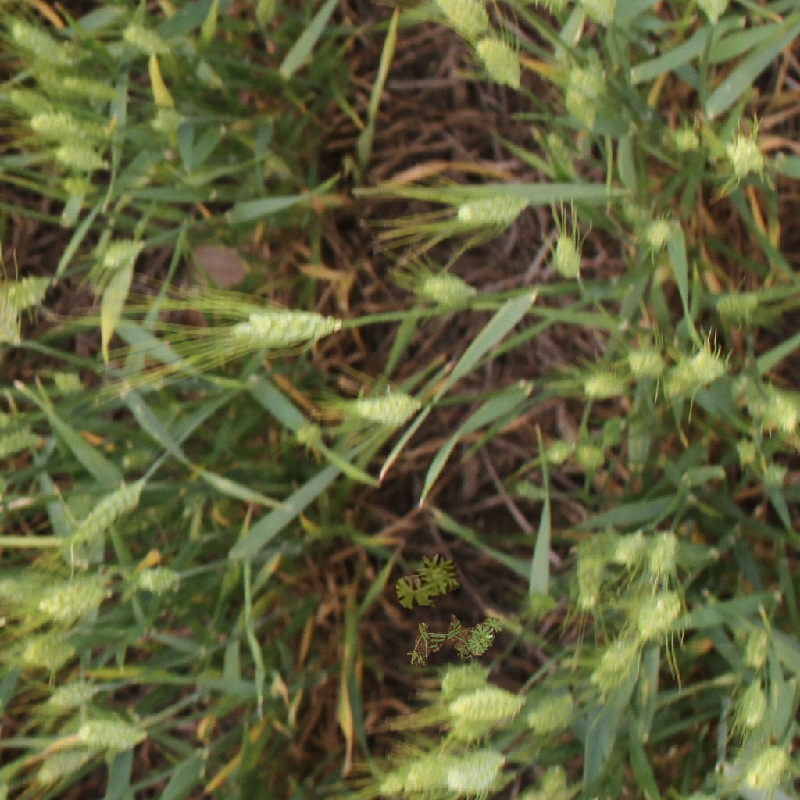spikelet: (224, 305, 340, 352), (71, 479, 144, 544), (376, 749, 463, 799), (442, 683, 527, 732), (35, 570, 112, 623), (3, 15, 77, 70), (1, 628, 77, 674), (453, 188, 528, 233), (74, 708, 147, 754), (445, 745, 508, 798), (351, 387, 422, 429), (473, 33, 523, 92), (33, 676, 100, 720), (25, 108, 102, 146), (32, 743, 98, 787), (414, 268, 477, 312), (634, 588, 684, 643), (589, 637, 638, 693), (523, 690, 578, 737), (677, 345, 729, 394), (744, 742, 791, 795), (433, 659, 493, 700), (428, 1, 490, 40), (758, 388, 800, 442), (1, 273, 51, 315), (51, 140, 107, 175), (713, 286, 763, 325), (725, 133, 766, 180), (524, 761, 573, 800), (624, 341, 668, 384), (565, 60, 609, 103), (580, 365, 628, 403), (121, 21, 170, 58), (551, 231, 586, 282), (735, 682, 771, 731), (135, 562, 182, 599), (96, 238, 147, 272), (740, 623, 774, 674), (561, 87, 600, 131), (646, 527, 680, 576), (636, 214, 676, 255), (664, 122, 705, 159), (611, 528, 648, 568), (570, 1, 620, 29), (148, 104, 186, 139), (50, 368, 84, 399), (290, 422, 324, 451), (578, 442, 605, 473), (761, 464, 787, 492), (548, 442, 574, 465)
weed: (407, 614, 502, 668), (396, 554, 460, 611)
